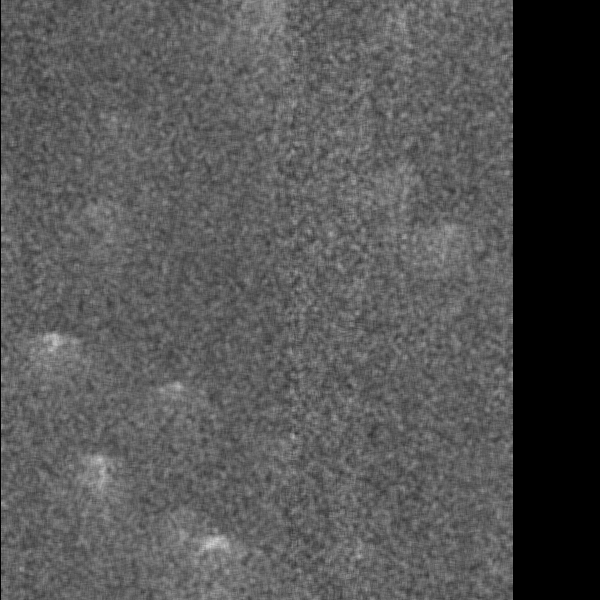spark: (305, 143, 342, 218), (133, 350, 170, 410), (10, 505, 43, 572), (156, 61, 188, 100)
